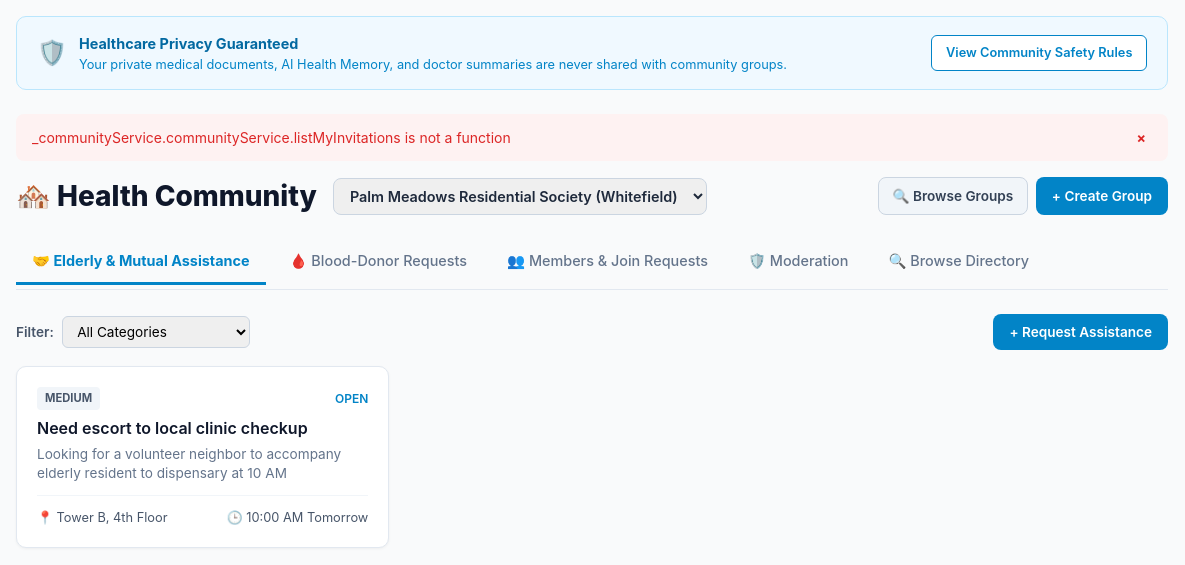
Phase 8 — Community Dashboard UI › navigates to Blood Donors tab and displays donor request
Click the button "🩸 Blood-Donor Requests": (378, 262) [274,239,483,285]
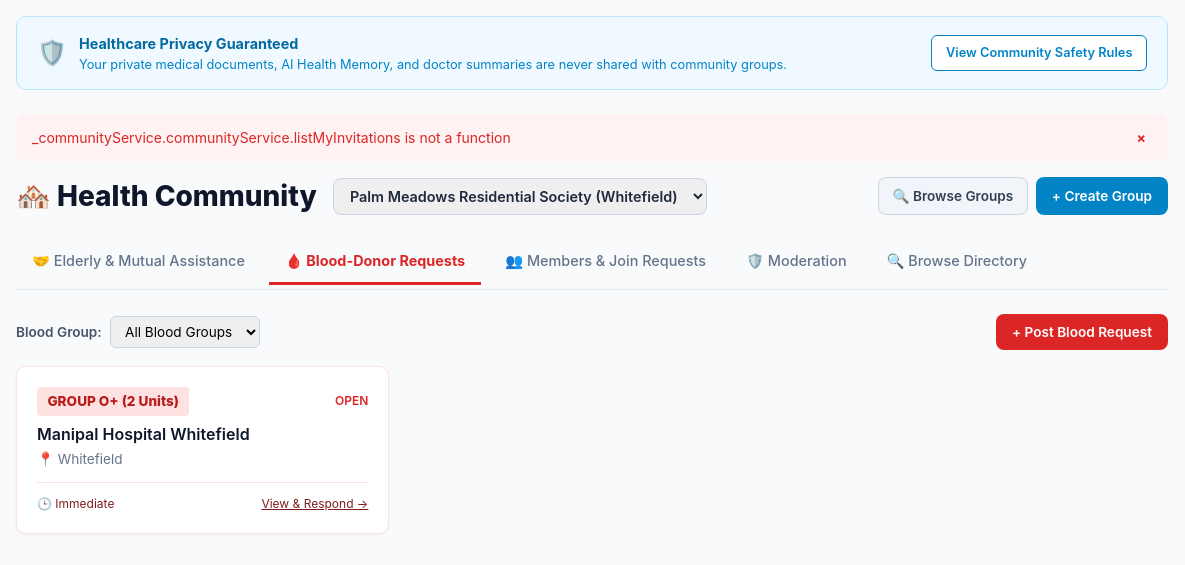
Check: the heading "Manipal Hospital Whitefield" is shown, box [37,424,250,444]
Check: the text "GROUP O+ (2 Units)" is shown, box [37,387,189,416]
Check: the button "+ Post Blood Request" is shown, box [996,314,1168,350]
